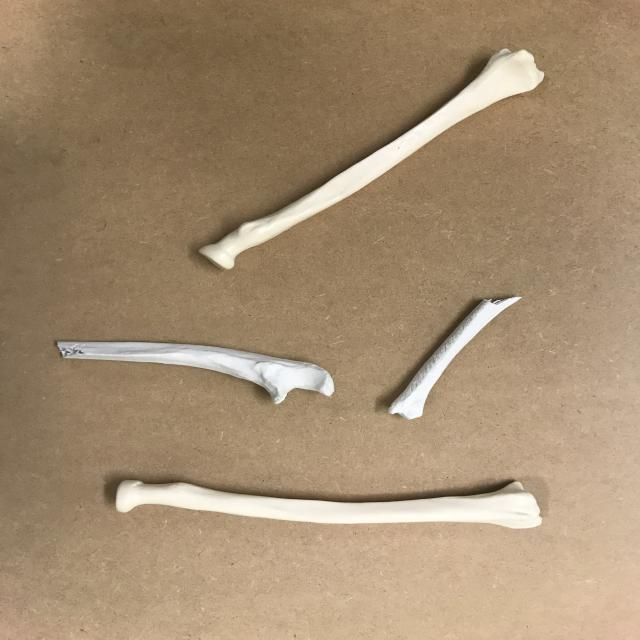bone: (192, 41, 552, 275), (110, 468, 559, 537), (57, 332, 343, 405), (385, 290, 531, 422)
